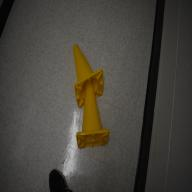cone: (76, 79, 110, 149), (72, 44, 104, 109)
